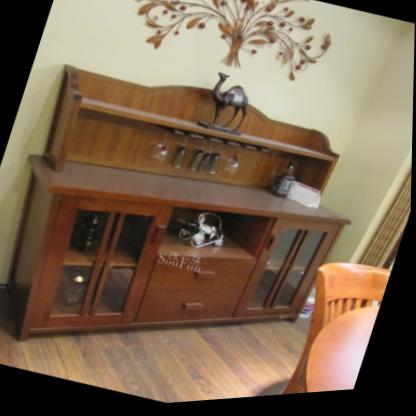Cupboard: (2, 68, 350, 342)
Wooden floor: (0, 295, 313, 406)
